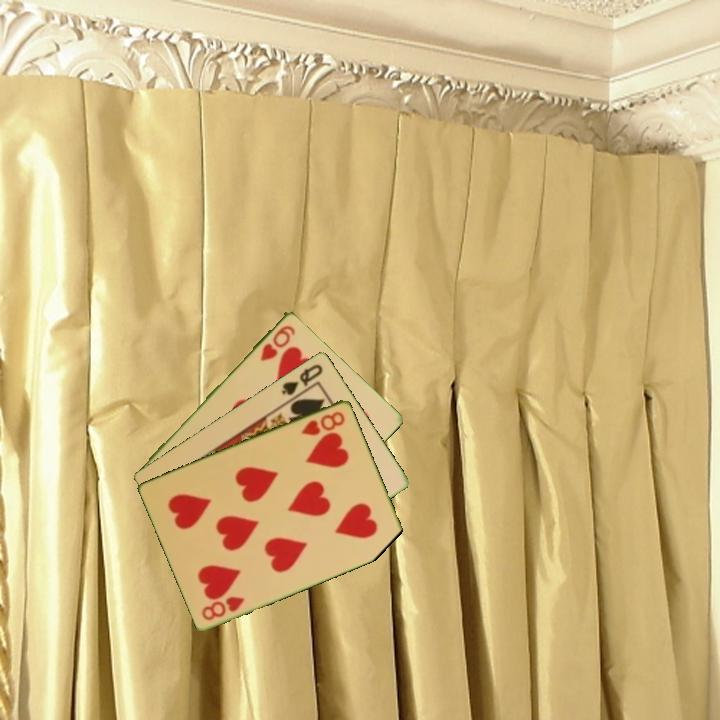6h: (257, 321, 298, 364)
8h: (298, 407, 348, 438), (198, 592, 248, 623)
Qs: (278, 360, 326, 398)
